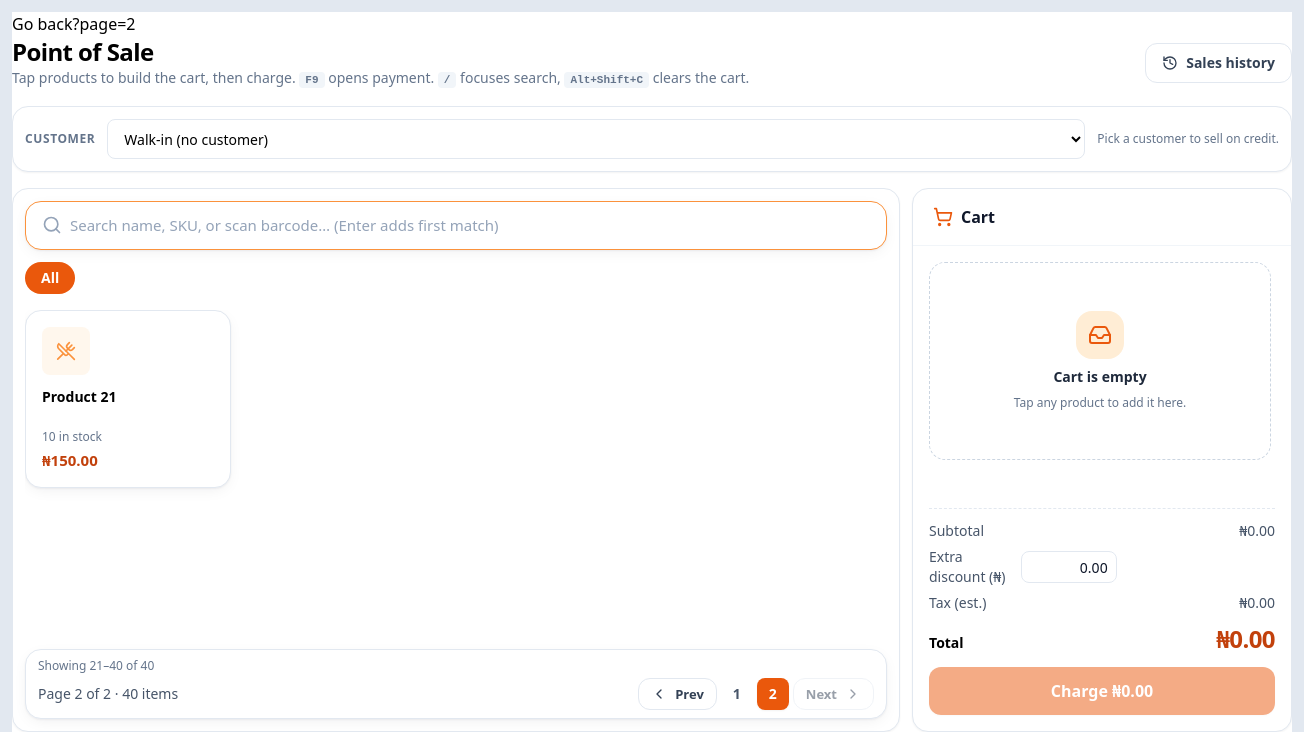
Test: PosPage product grid › debounces search into the URL, resets the page, and keeps the old tiles while loading
expect the text "Product 21" is shown: met, box [42,386,116,406]
Type "milk" into the field named "Search products" at (470, 225), box [70,214,870,236]
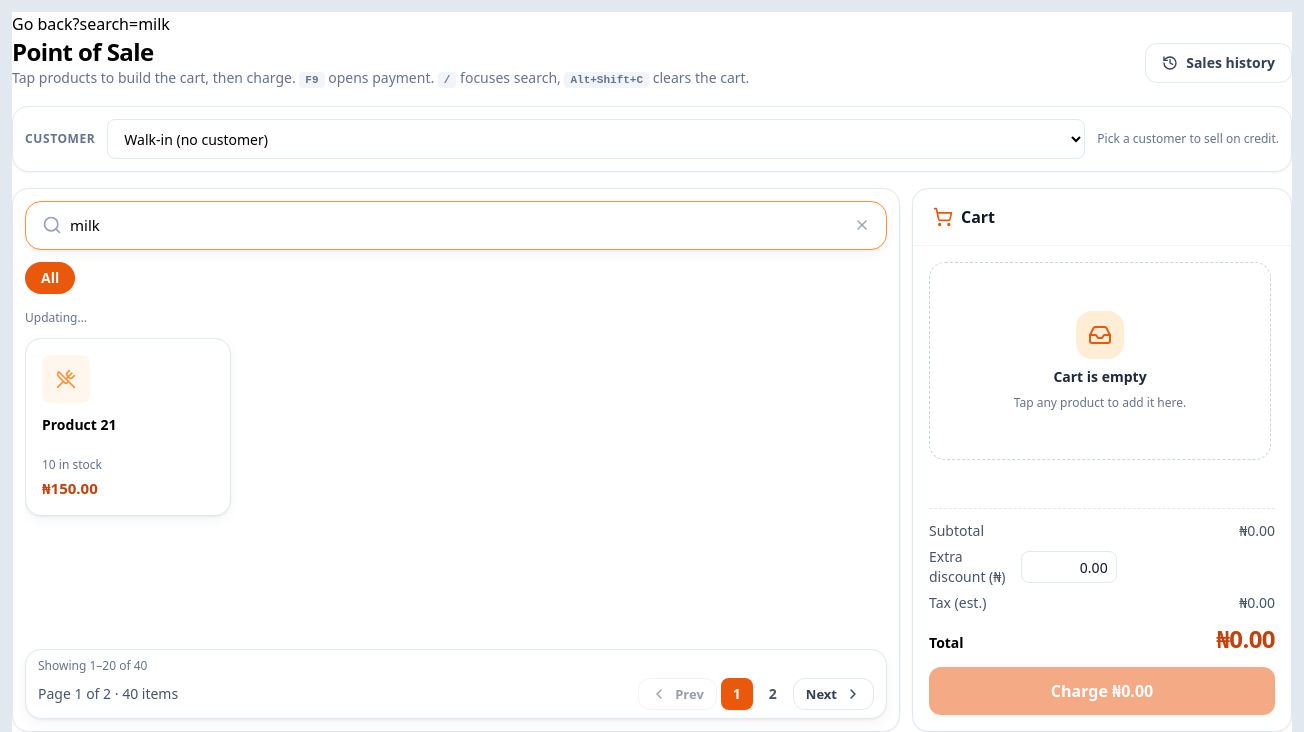
expect the text "Product 21" is shown: met, box [42,414,116,434]
expect the text with test id "location" shows "search=milk": met, box [72,13,170,35]
expect the text with test id "location" no longer shows "page=2": met, box [72,13,170,35]
